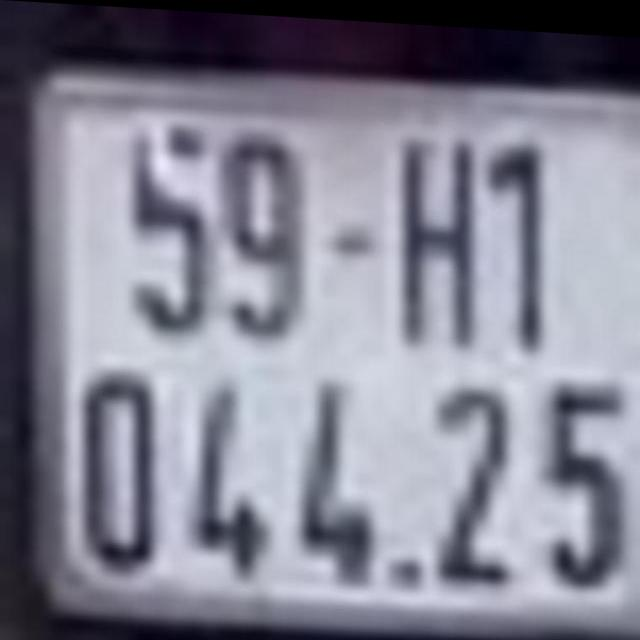0: (72, 353, 155, 565)
1: (488, 128, 546, 346)
2: (428, 368, 516, 589)
4: (294, 372, 380, 581), (192, 365, 274, 576)
5: (122, 122, 212, 329), (544, 372, 628, 577)
9: (225, 129, 306, 334)
H: (395, 120, 478, 348)
